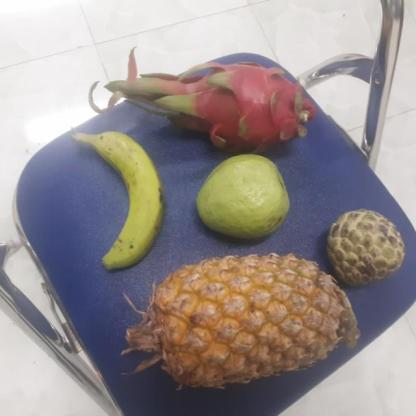annona: (320, 210, 404, 287)
banana: (80, 131, 164, 266)
guava: (193, 155, 289, 238)
pineapple: (125, 256, 349, 381)
pitaya: (186, 61, 307, 154)
